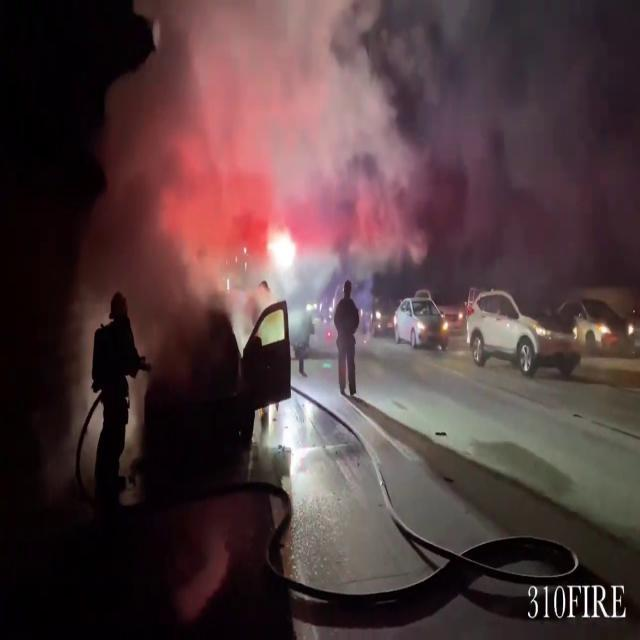Smoke: (52, 0, 634, 301)
